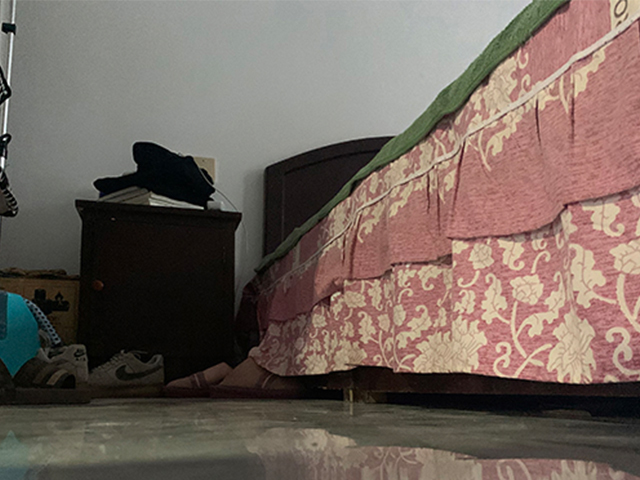bed: (239, 1, 640, 405)
slippers: (1, 355, 92, 405), (161, 357, 226, 399), (224, 357, 289, 399)
